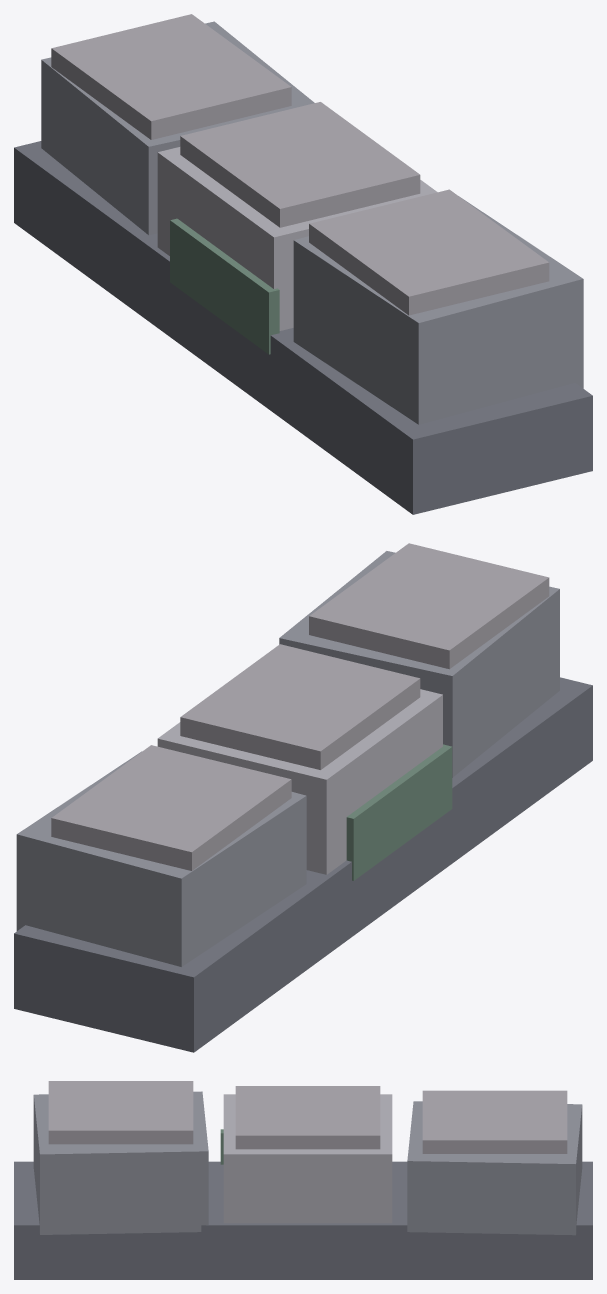
The model's file is road_edge.glb.
3 renders of one model, top to bottom at view 1: azimuth 30°, elevation 25°; view 2: azimuth 150°, elevation 25°; view 3: azimuth 270°, elevation 25°, orthographic. The views are drawn at different scales.
Visible parts, largest first — view 1: Gothic Road Edge; view 2: Gothic Road Edge; view 3: Gothic Road Edge.
Boxes of the visible parts, x1=… form: Gothic Road Edge: x1=14, y1=14, x2=592, y2=514; Gothic Road Edge: x1=14, y1=543, x2=592, y2=1052; Gothic Road Edge: x1=14, y1=1081, x2=592, y2=1279.
Size of the model in its own units: 1.06 by 1.04 by 3.84.
